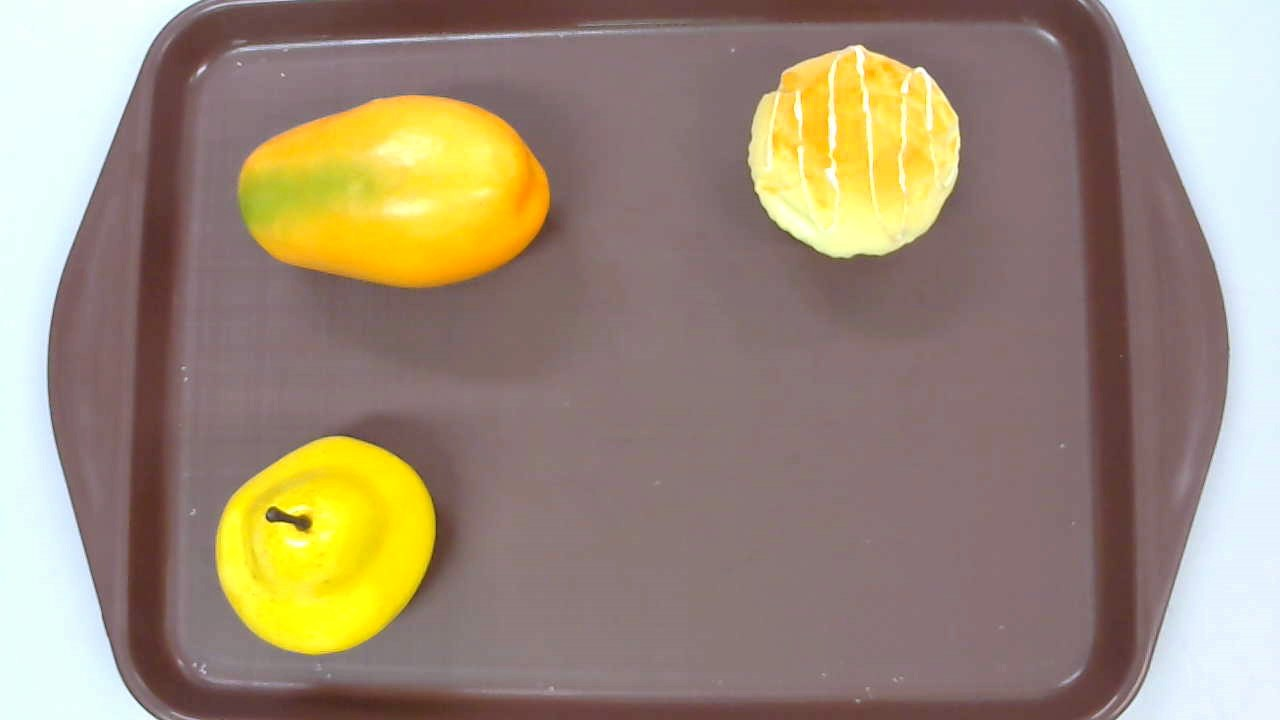cupcake: (748, 45, 961, 259)
papya: (237, 95, 551, 290)
yellow pear: (216, 435, 435, 655)
